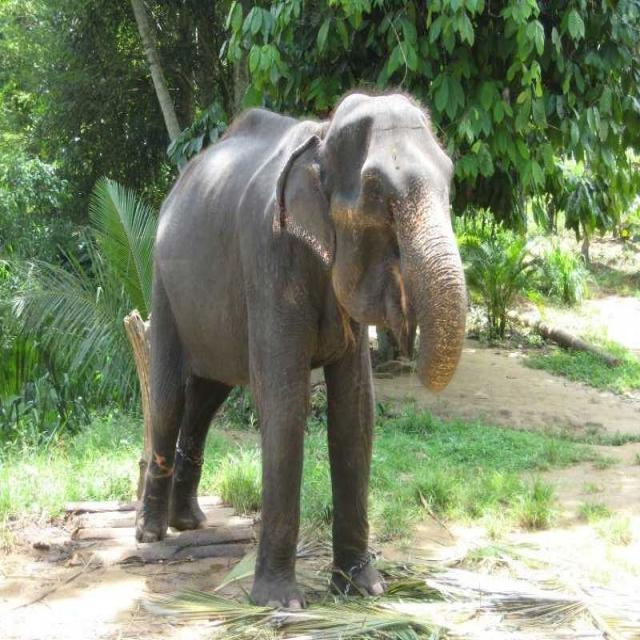Elephant: (133, 88, 467, 611)
